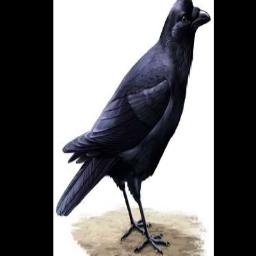Crow: (55, 0, 211, 256)
